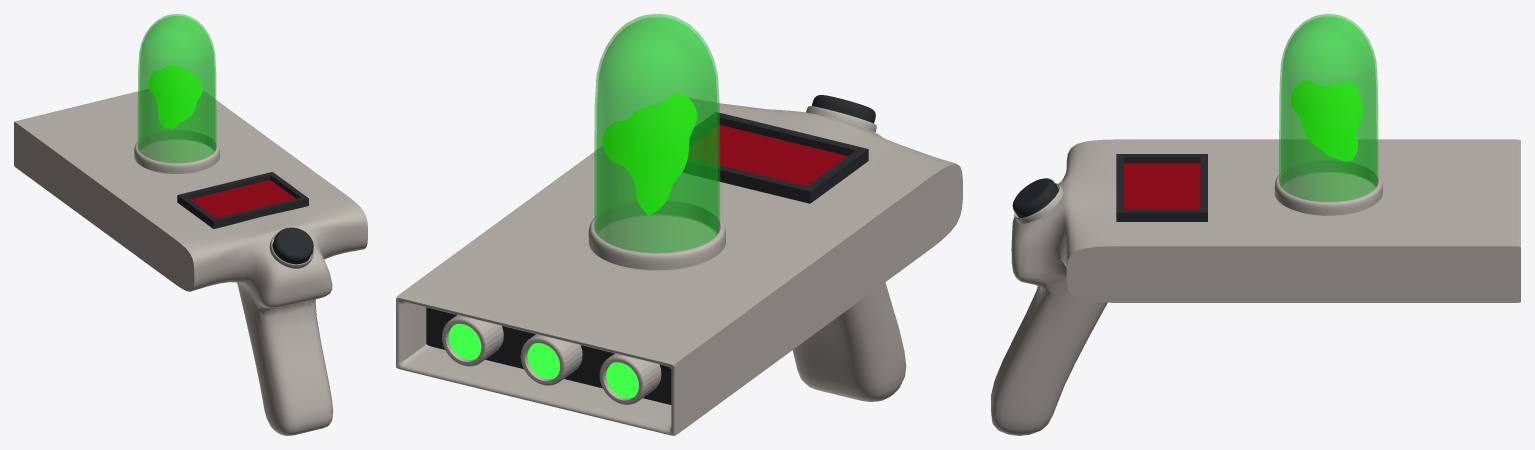
The model's file is pushka1.glb.
3 renders of one model, left to right at view 1: azimuth 30°, elevation 25°; view 2: azimuth 150°, elevation 25°; view 3: azimuth 270°, elevation 25°, orthographic. The views are drawn at different scales.
Parts seen in each view (by area): view 1: body, flask, screen, button; view 2: body, flask, screen, emitter_2, emitter_3, emitter_1, button; view 3: body, flask, screen, button.
Part boxes in pixels (box(x1,y1,x2,y2)): body: box(14, 89, 367, 435); flask: box(137, 14, 216, 163); screen: box(177, 172, 308, 228); button: box(272, 227, 313, 264); body: box(396, 98, 962, 435); flask: box(594, 14, 720, 253); screen: box(683, 112, 868, 203); emitter_2: box(520, 334, 582, 385); emitter_3: box(442, 315, 503, 366); emitter_1: box(599, 353, 661, 404); button: box(812, 95, 875, 123); body: box(991, 139, 1520, 435); flask: box(1279, 14, 1378, 201); screen: box(1116, 154, 1207, 221); button: box(1012, 178, 1058, 217).
Size of the model in its own units: 1.91 by 3.39 by 4.
